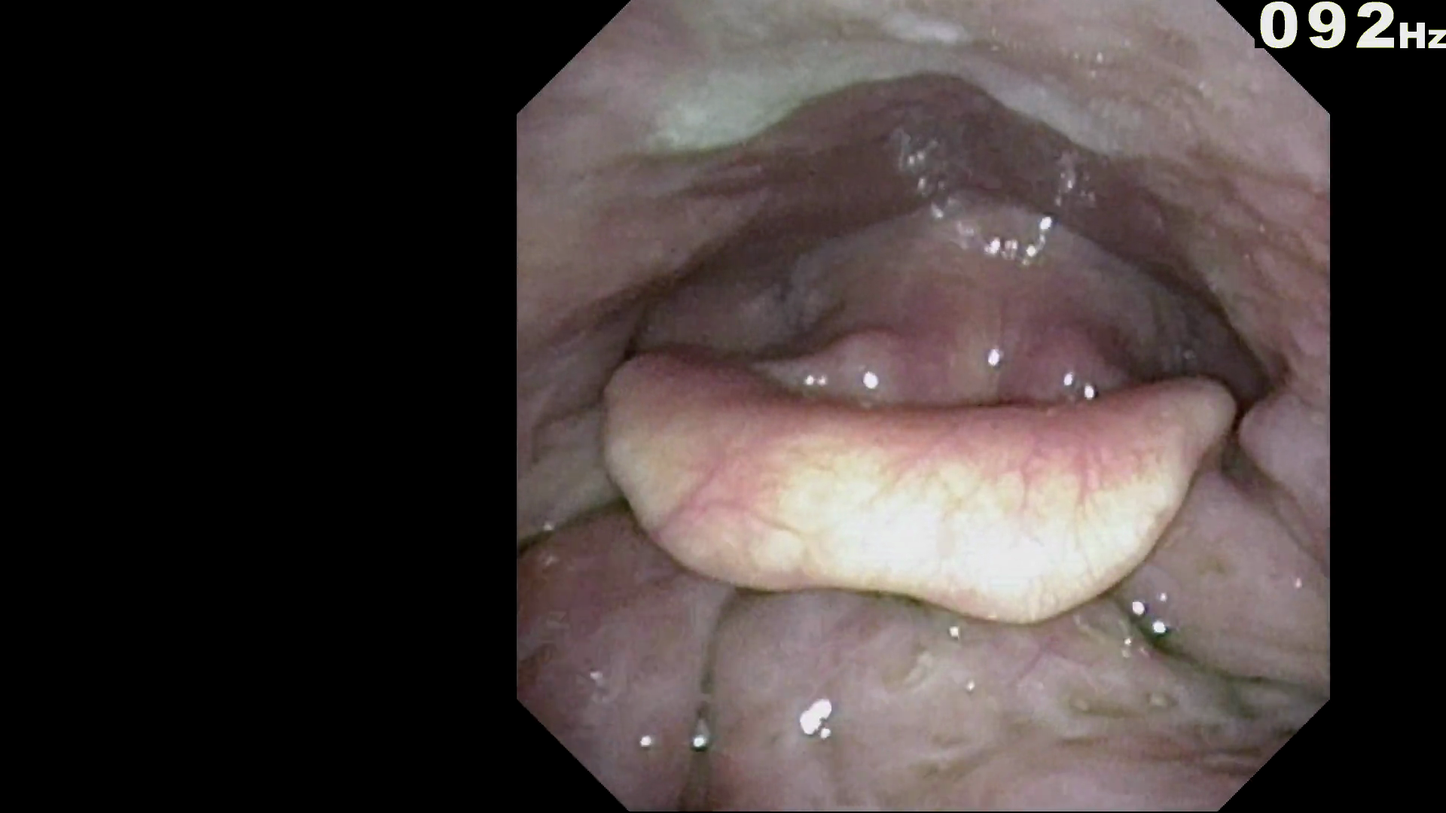epiglottis: (607, 371, 1220, 609)
trachea: (924, 368, 1021, 440)
